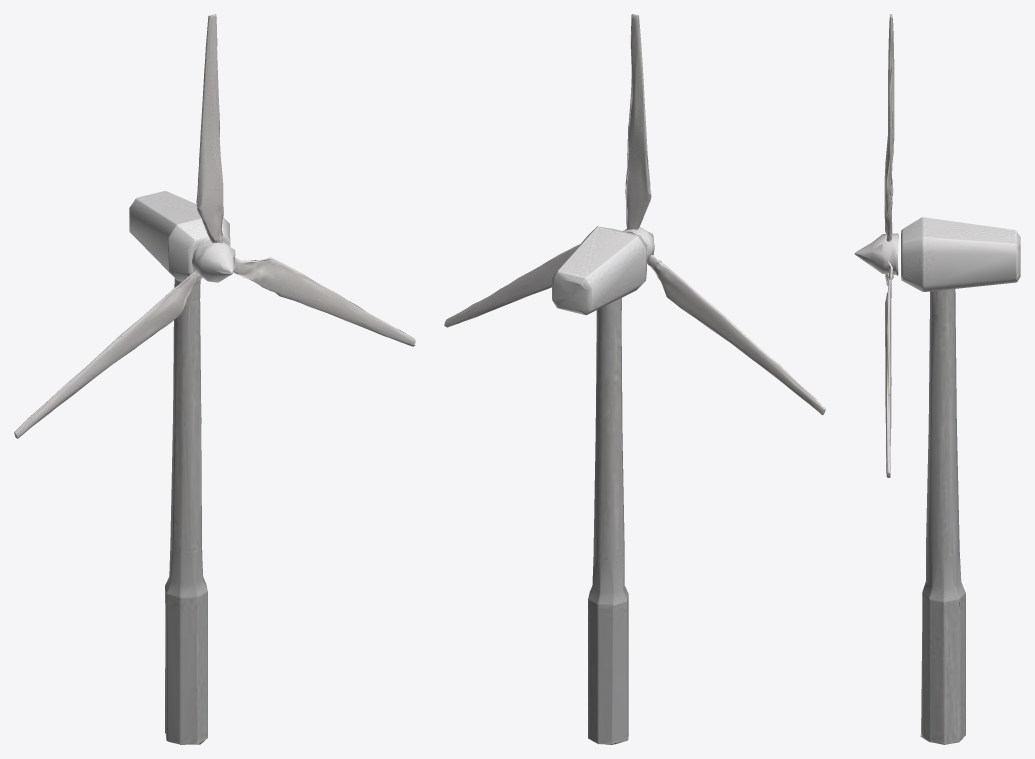
The model's file is 24-wind-turbine.glb.
3 views of the same model, side by side, from view 1: azimuth 30°, elevation 25°; view 2: azimuth 150°, elevation 25°; view 3: azimuth 270°, elevation 25° (orthographic). The views are drawn at different scales.
Parts seen in each view (by area): view 1: geometry_0; view 2: geometry_0; view 3: geometry_0.
Part boxes in pixels (x1,y1,x2,y2): geometry_0: (14, 14, 415, 744); geometry_0: (444, 14, 825, 744); geometry_0: (854, 14, 1020, 744).
Size of the model in its own units: 0.5381 by 0.9507 by 0.1987.
Materials: 1 (1 with a texture image).
